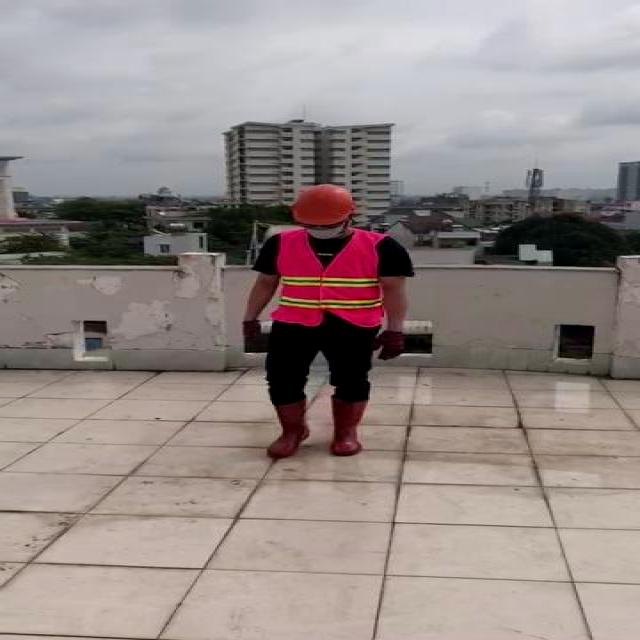boots: (260, 397, 308, 459), (326, 397, 372, 456)
face_mask: (300, 220, 345, 240)
hand_glove: (370, 331, 409, 360), (240, 318, 261, 343)
head_helmet: (292, 181, 358, 227)
person: (230, 182, 417, 462)
vest: (276, 231, 388, 325)
